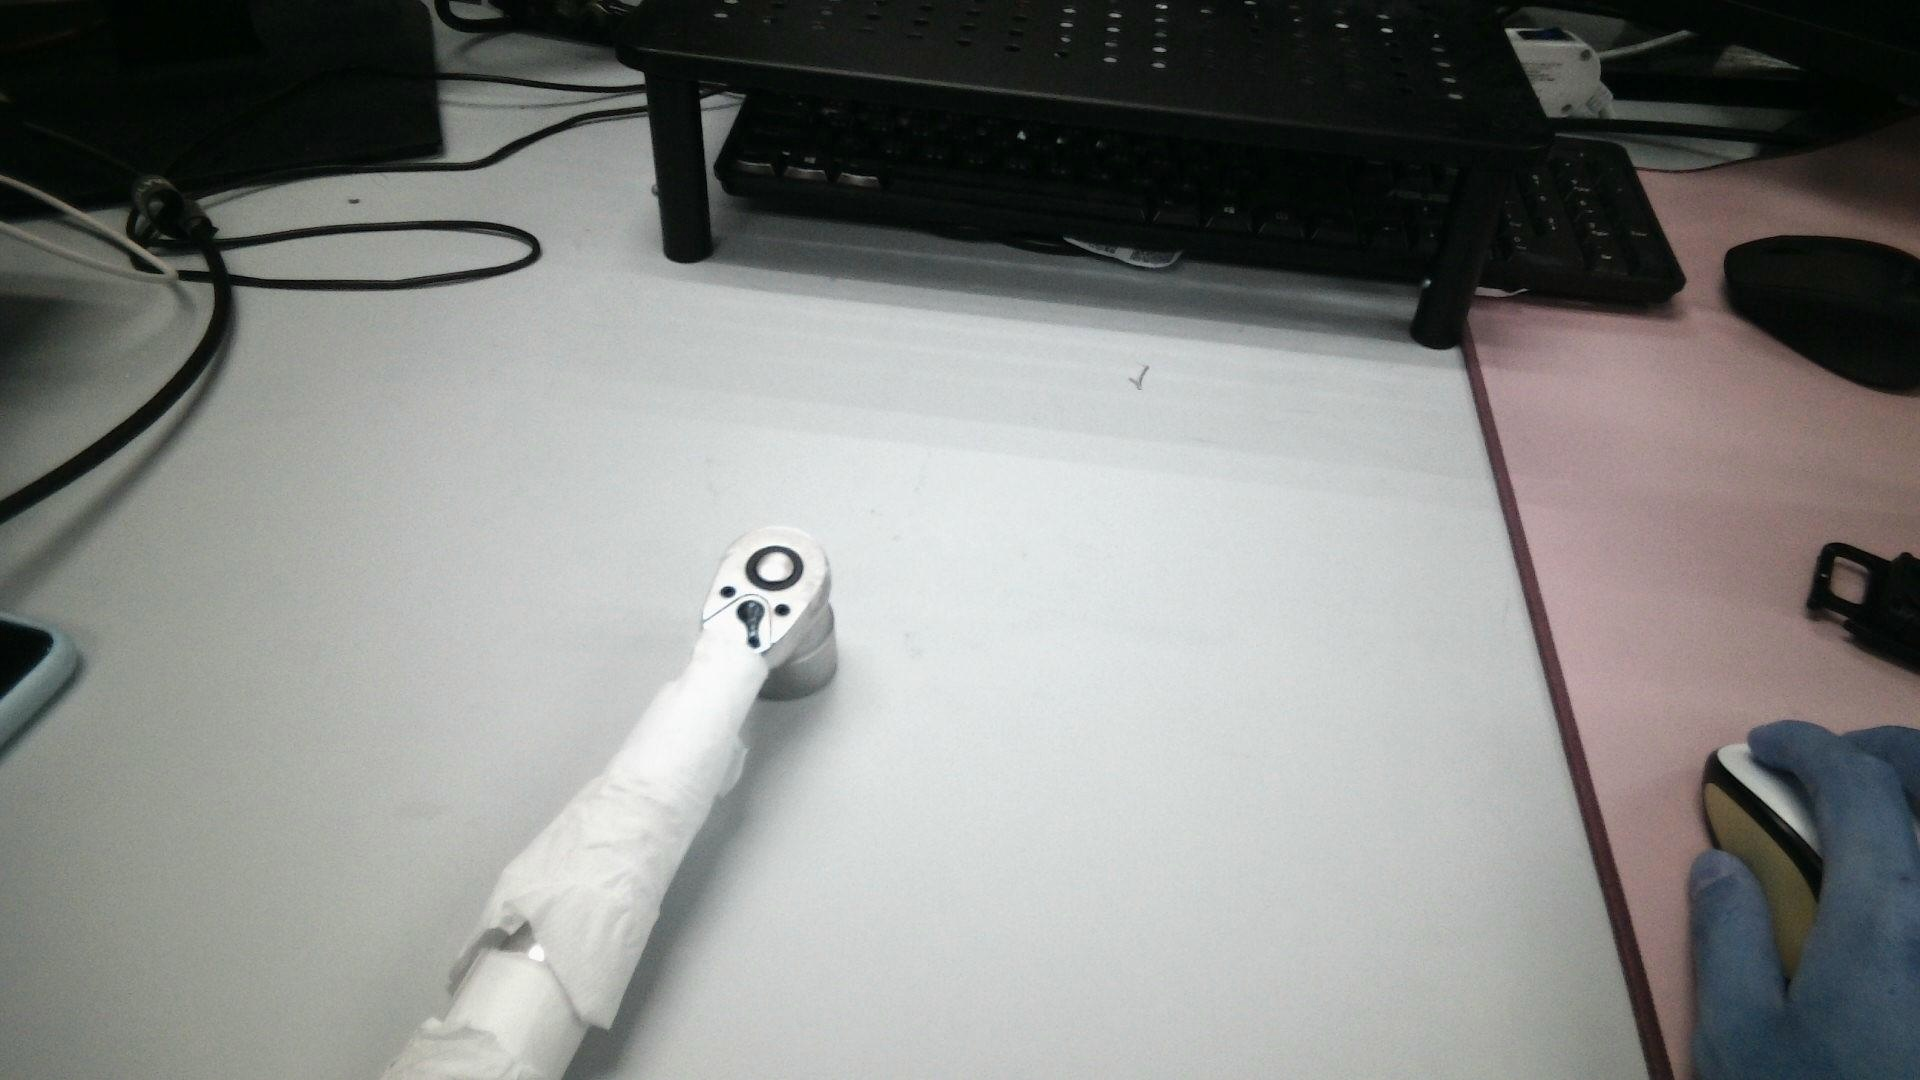wrench: (745, 543, 810, 595)
